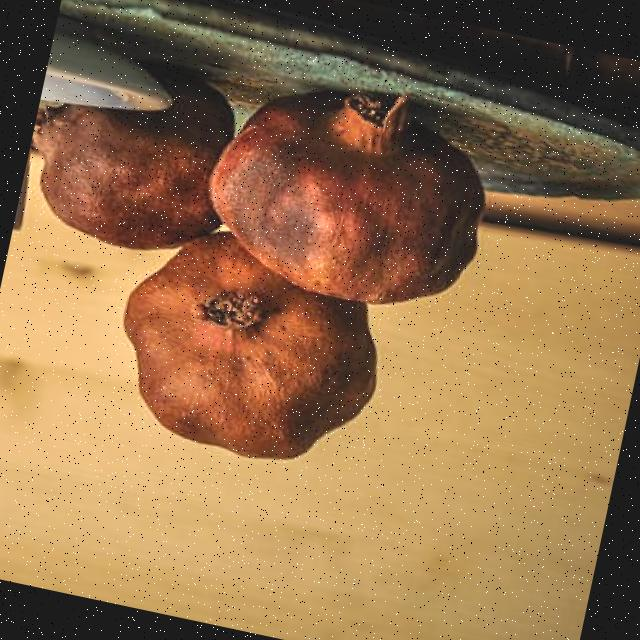overripe: (200, 59, 512, 330), (92, 242, 400, 488), (13, 44, 247, 267)
